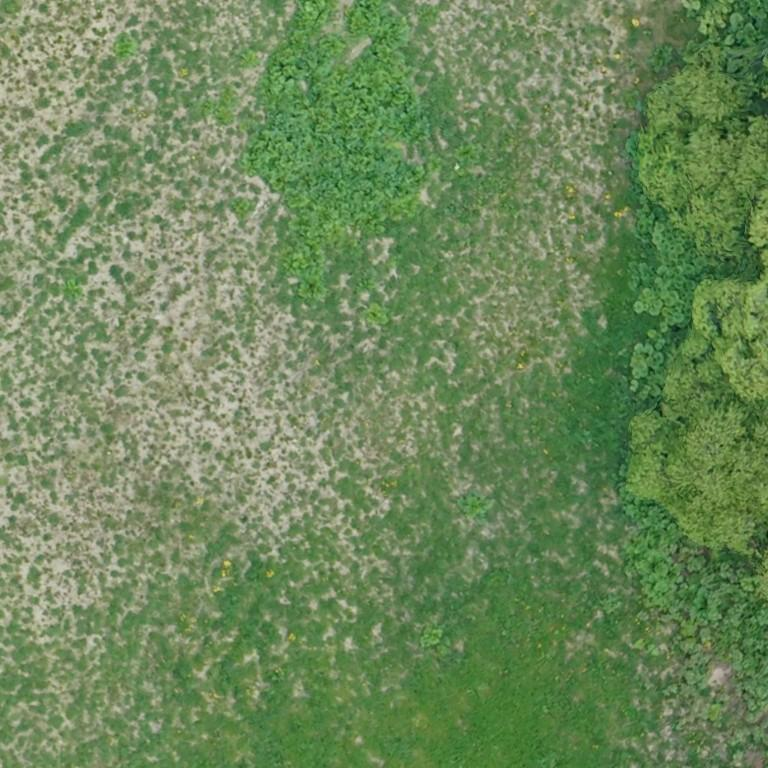hogweed: (243, 0, 430, 298)
